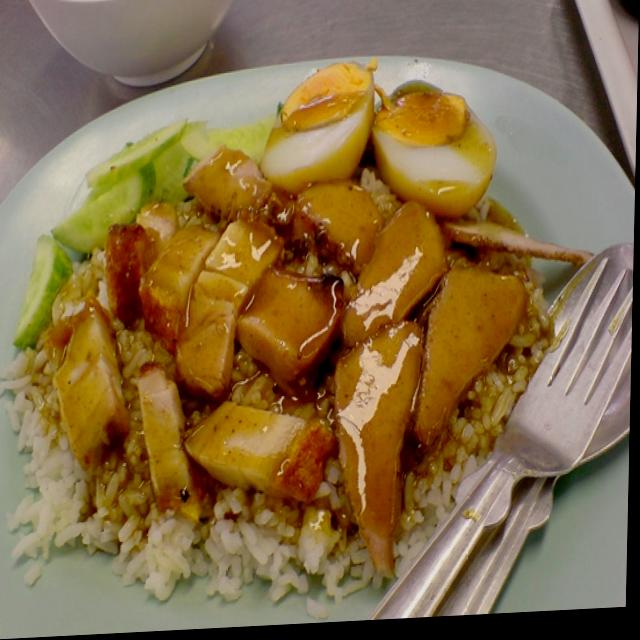猪肉菜式: (14, 40, 583, 621)
